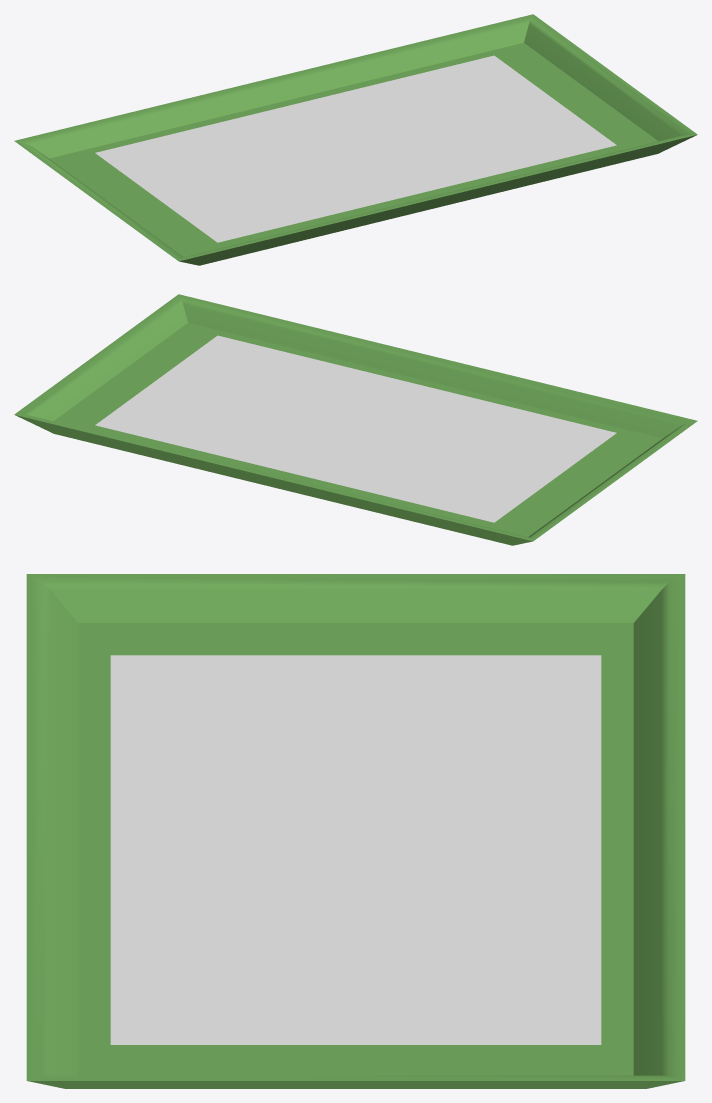
Rendered from Cabaret.fbx.
3 views of the same model, one above another, from view 1: azimuth 30°, elevation 25°; view 2: azimuth 150°, elevation 25°; view 3: azimuth 270°, elevation 25° (orthographic). The views are drawn at different scales.
Parts seen in each view (by area): view 1: Cabaret; view 2: Cabaret; view 3: Cabaret.
Boxes of the visible parts, <box> form: Cabaret: <box>14,14,697,265</box>; Cabaret: <box>14,294,697,545</box>; Cabaret: <box>26,574,685,1088</box>.
Size of the model in its own units: 12.43 by 0.4296 by 6.83.
